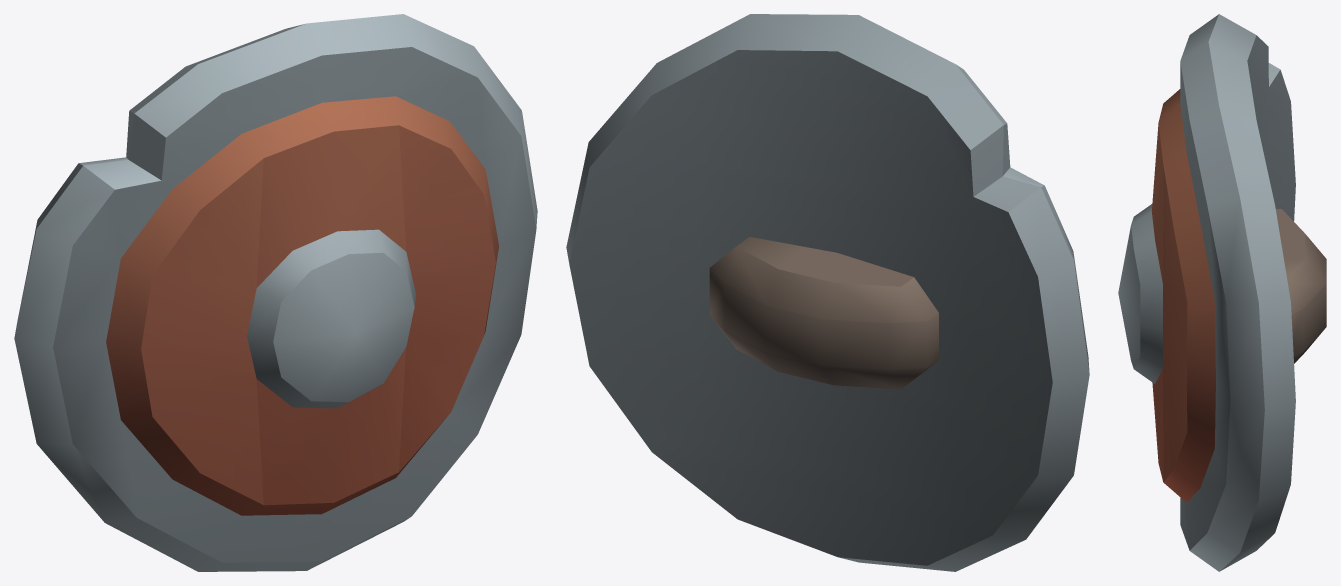
The model's file is shield.glb.
3 renders of one model, left to right at view 1: azimuth 30°, elevation 25°; view 2: azimuth 150°, elevation 25°; view 3: azimuth 270°, elevation 25°, orthographic. The views are drawn at different scales.
Visible parts, largest first — view 1: shield_round; view 2: shield_round; view 3: shield_round.
Boxes of the visible parts, box(x1,y1,x2,y2) form: shield_round: box(14, 14, 537, 571); shield_round: box(566, 14, 1089, 571); shield_round: box(1118, 14, 1326, 571).
Bounding box in the file's own units: 0.8826 × 0.8826 × 0.3319.
1 material, 1 textured.
